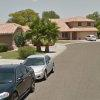Car: (2, 45, 57, 100)
